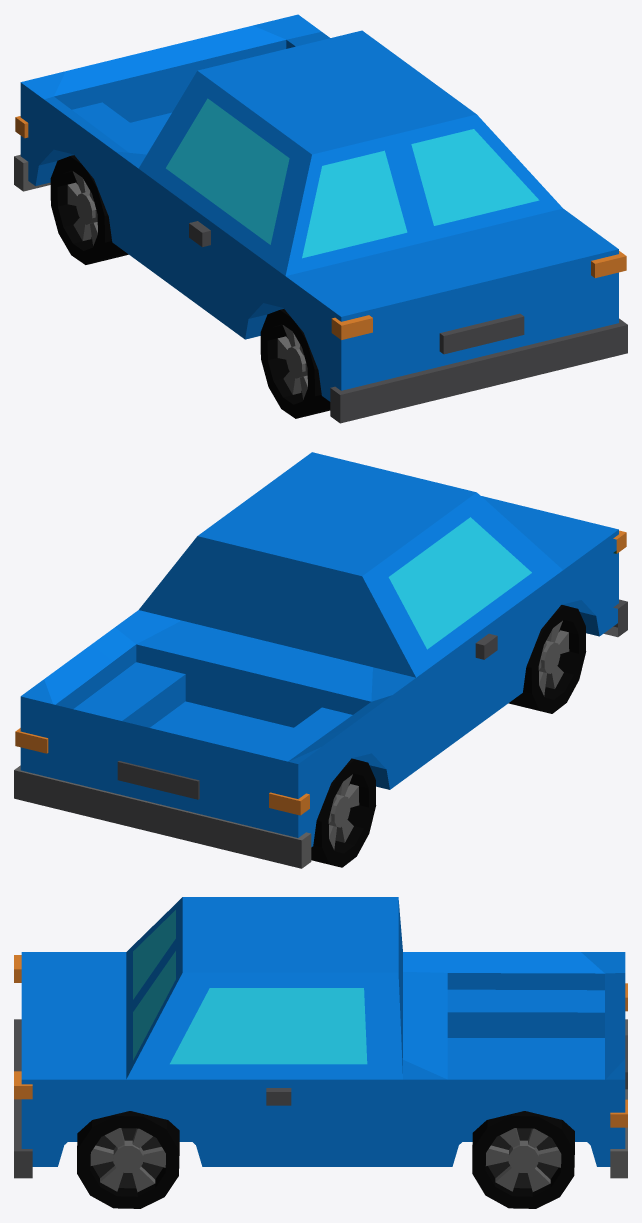
File: TUTUZUL.fbx
3 renders of one model, top to bottom at view 1: azimuth 30°, elevation 25°; view 2: azimuth 150°, elevation 25°; view 3: azimuth 270°, elevation 25°, orthographic. The views are drawn at different scales.
Parts seen in each view (by area): view 1: RedCar.001; view 2: RedCar.001; view 3: RedCar.001.
Part boxes in pixels (bbox=[...]): RedCar.001: bbox=[14, 14, 627, 423]; RedCar.001: bbox=[14, 452, 627, 868]; RedCar.001: bbox=[14, 897, 627, 1208].
Size of the model in its own units: 407 by 155 by 213.
